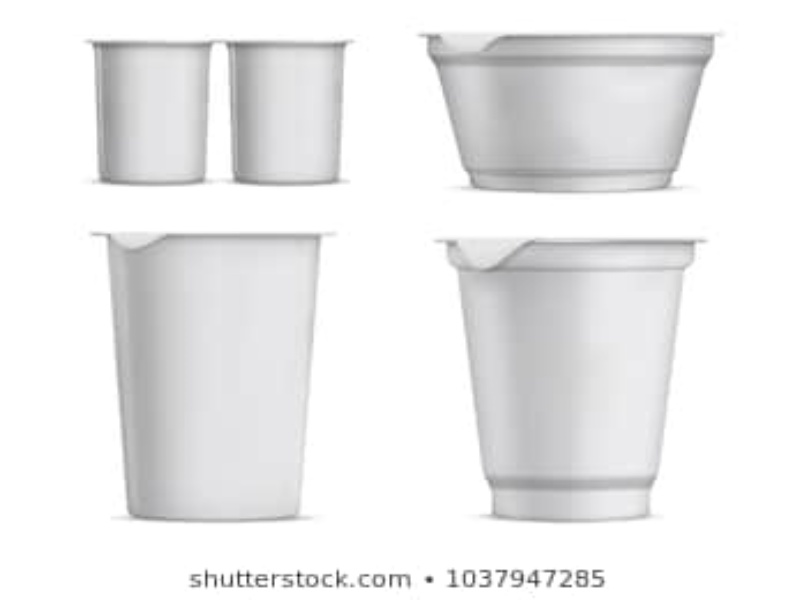yogurt-cup: (440, 229, 709, 523), (93, 226, 331, 526), (423, 26, 730, 197), (224, 34, 368, 188), (87, 29, 213, 187)
